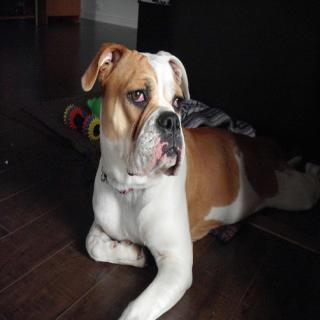dog: (82, 40, 195, 182)
nose: (157, 108, 183, 137)
